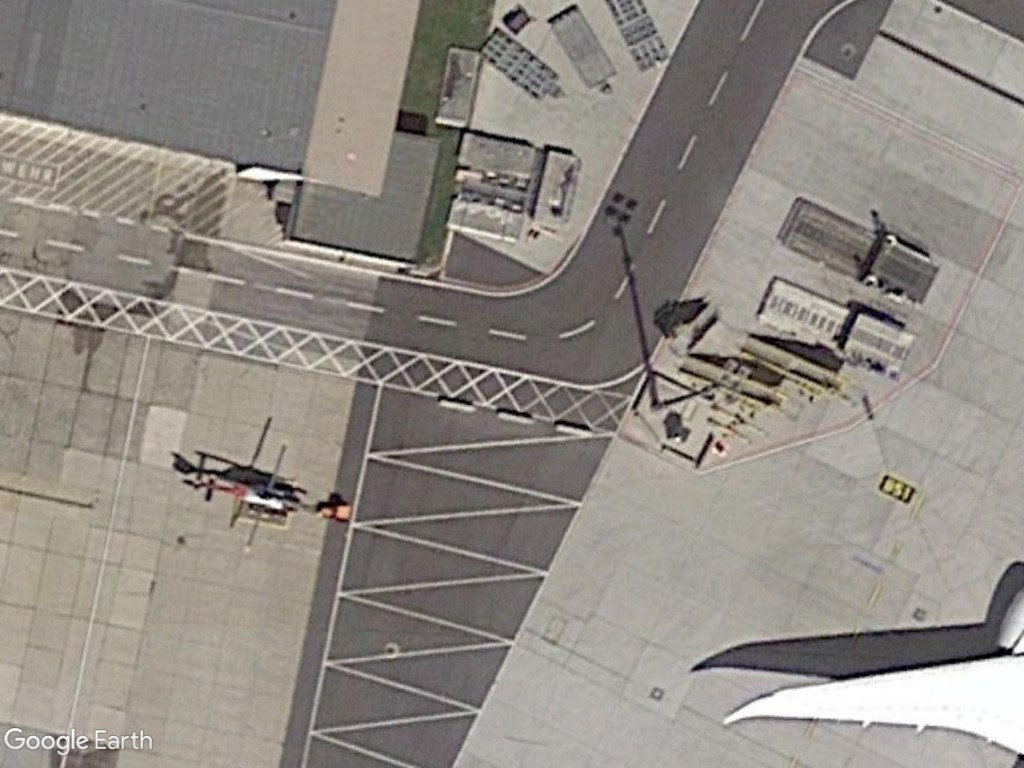helicopter: (178, 433, 317, 550)
